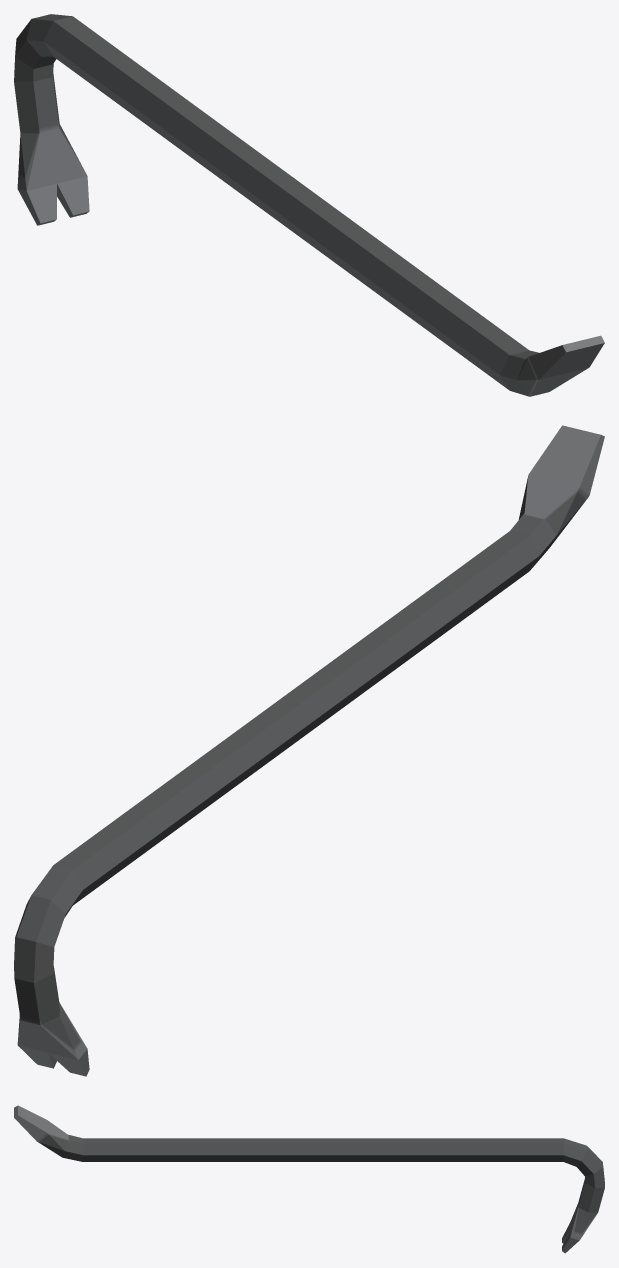
Rendered from SM_Item_Crowbar_01.fbx.
The picture shows the model from 3 angles, top to bottom: view 1: azimuth 30°, elevation 25°; view 2: azimuth 150°, elevation 25°; view 3: azimuth 270°, elevation 25°; orthographic projection. The views are drawn at different scales.
Parts seen in each view (by area): view 1: SM_Item_Crowbar_01; view 2: SM_Item_Crowbar_01; view 3: SM_Item_Crowbar_01.
Part boxes in pixels (x1,y1,x2,y2): SM_Item_Crowbar_01: [14, 14, 604, 396]; SM_Item_Crowbar_01: [14, 425, 604, 1076]; SM_Item_Crowbar_01: [14, 1105, 604, 1253].
Bounding box in the file's own units: 8.59 × 35.04 × 137.
